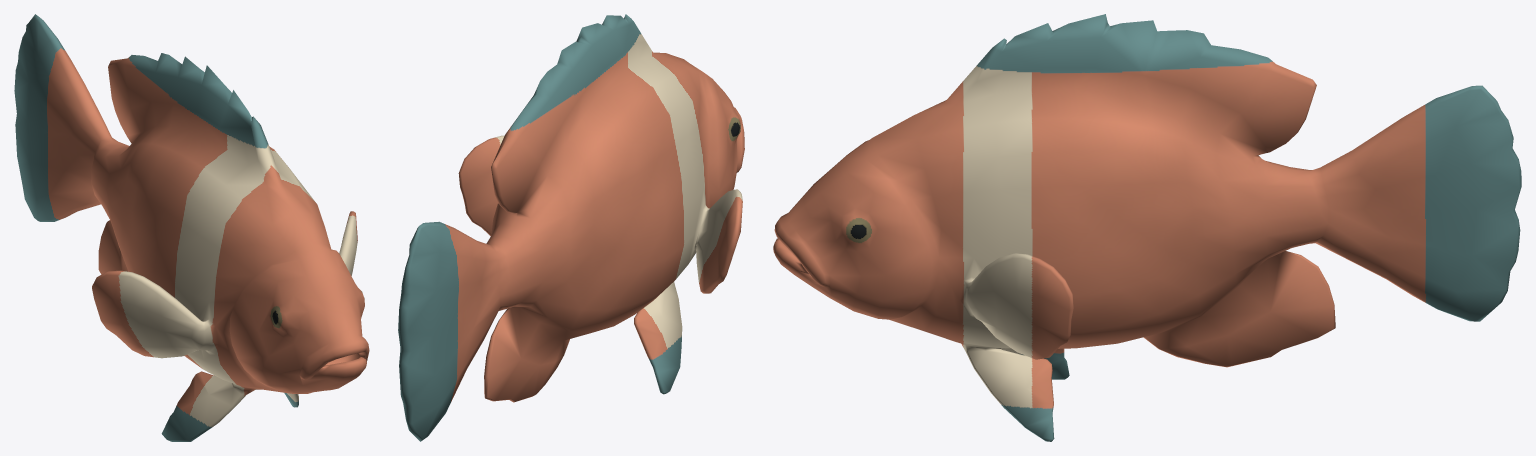
Rendered from fish_coral.fbx.
3 views of the same model, side by side, from view 1: azimuth 30°, elevation 25°; view 2: azimuth 150°, elevation 25°; view 3: azimuth 270°, elevation 25° (orthographic). The views are drawn at different scales.
Visible parts, largest first — view 1: fish_coral; view 2: fish_coral; view 3: fish_coral.
Boxes of the visible parts, bbox=[...] form: fish_coral: bbox=[14, 14, 369, 441]; fish_coral: bbox=[398, 14, 744, 441]; fish_coral: bbox=[773, 14, 1521, 441].
Bounding box in the file's own units: 0.1643 × 0.206 × 0.35.
1 material, 1 textured.
